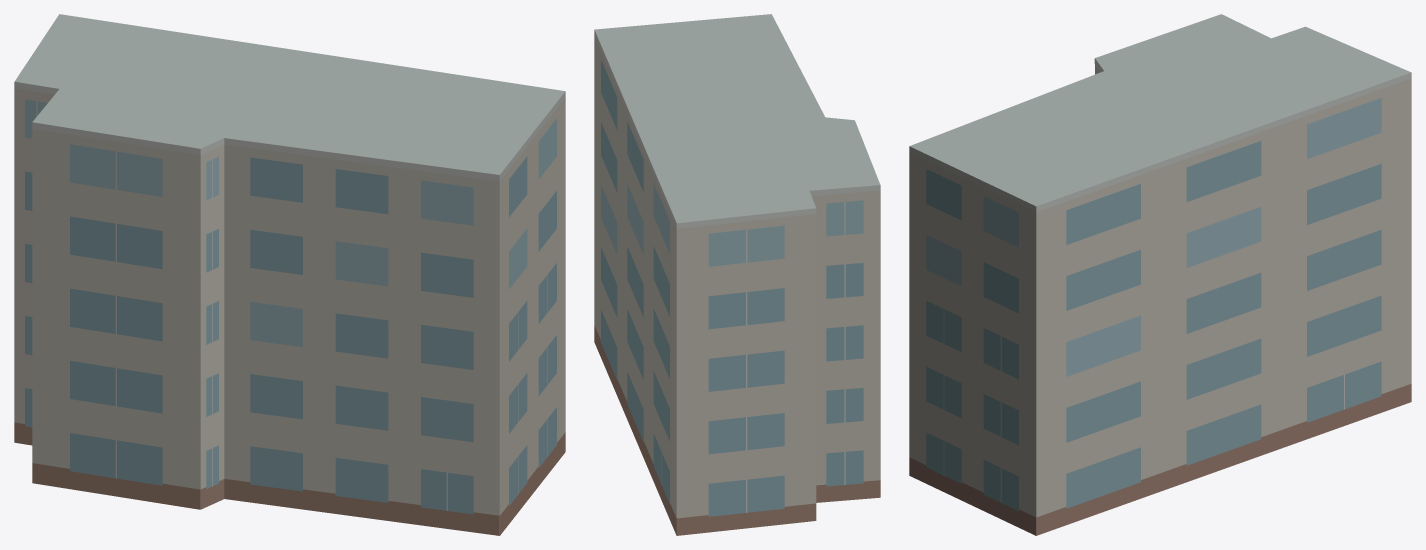
File: survey-upis-32962403.glb
The picture shows the model from 3 angles, left to right: view 1: azimuth 30°, elevation 25°; view 2: azimuth 150°, elevation 25°; view 3: azimuth 270°, elevation 25°; orthographic projection. The views are drawn at different scales.
Parts seen in each view (by area): view 1: survey-upis-32962403.tmp; view 2: survey-upis-32962403.tmp; view 3: survey-upis-32962403.tmp.
Part boxes in pixels (left/top/right/bottom): survey-upis-32962403.tmp: left=14, top=14, right=565, bottom=535; survey-upis-32962403.tmp: left=594, top=14, right=880, bottom=535; survey-upis-32962403.tmp: left=909, top=14, right=1411, bottom=535.
Bounding box in the file's own units: 17.14 × 13.68 × 18.9.
